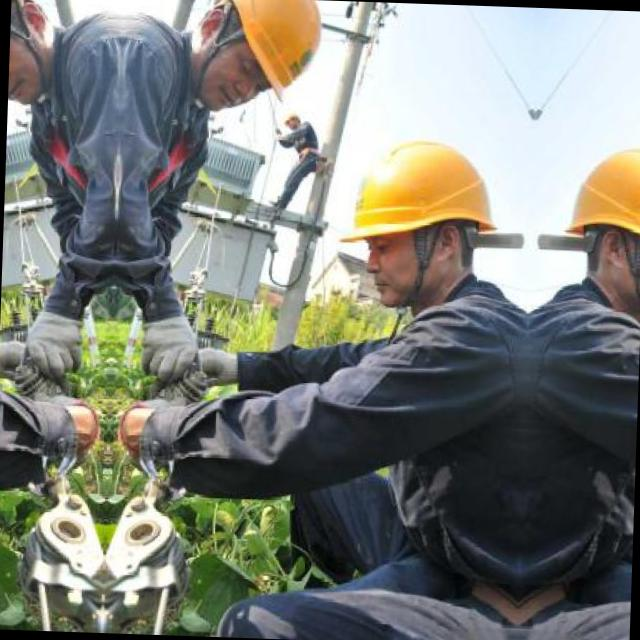helmet: (322, 118, 514, 318), (546, 124, 640, 323), (182, 0, 331, 111), (7, 0, 62, 103), (279, 111, 301, 130)
